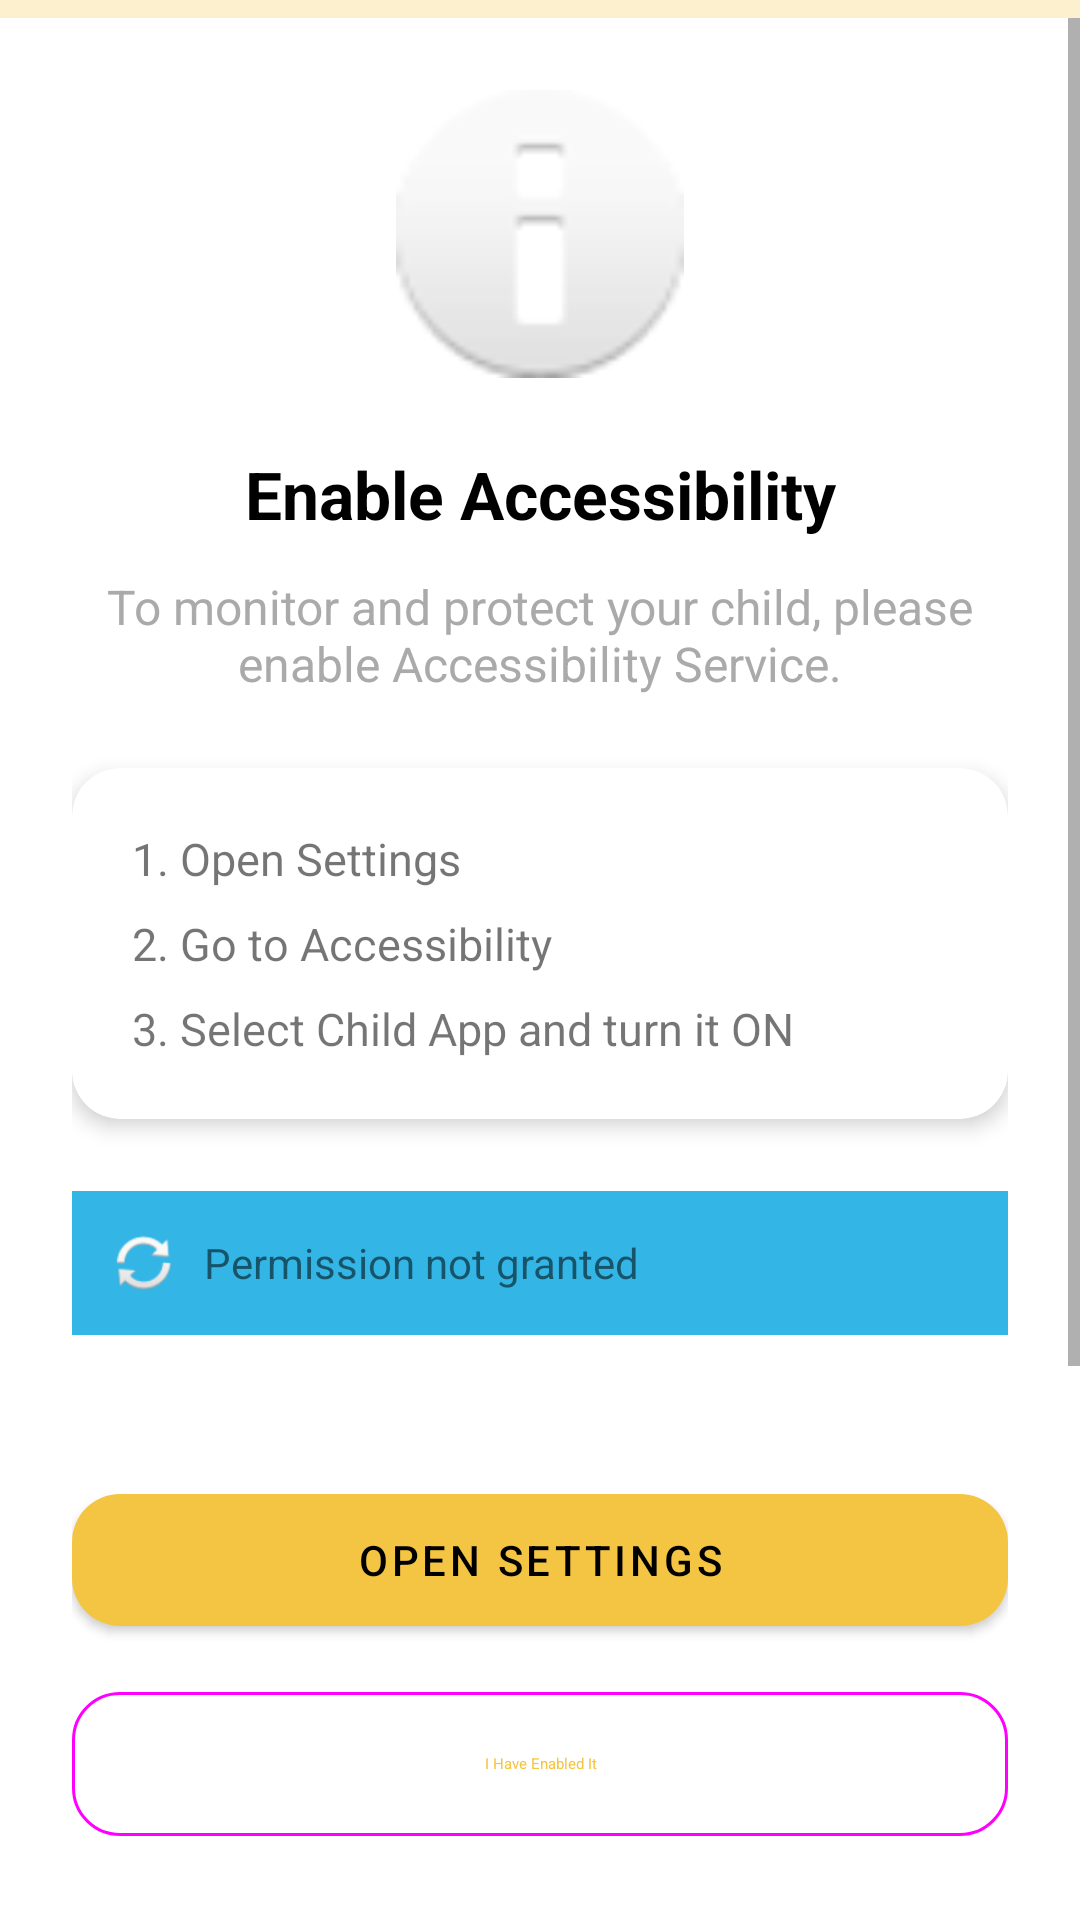

Named icons in this screenshot (1080 × 1920) and their bounding boxes, box(x1, y1, x2, y2):
popup sync: box(117, 1236, 171, 1290)
